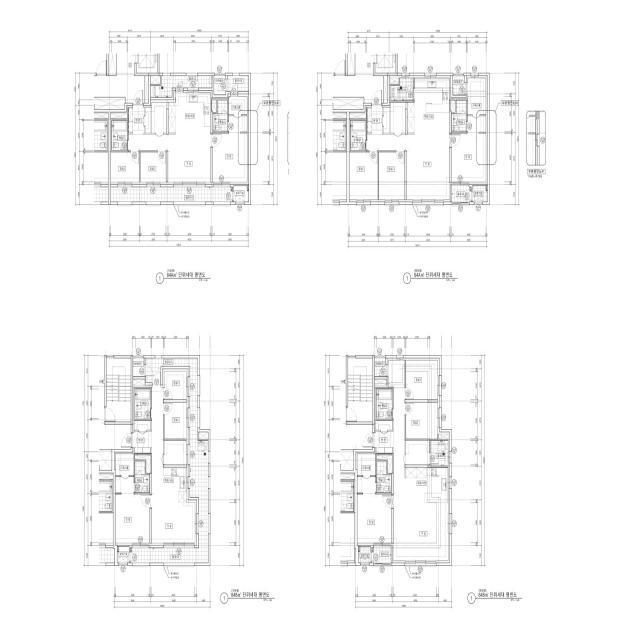space_balconi: (130, 358, 208, 563), (111, 187, 233, 202), (151, 76, 212, 97), (391, 78, 413, 101), (430, 441, 448, 466), (227, 76, 249, 91), (372, 546, 391, 563), (452, 185, 471, 202)
space_bedroom: (357, 494, 391, 543), (116, 494, 150, 543), (213, 133, 247, 182), (452, 133, 486, 182), (349, 152, 378, 200), (406, 360, 438, 400), (379, 152, 405, 200), (406, 403, 438, 439), (111, 152, 139, 182), (164, 403, 186, 439), (140, 152, 166, 182), (164, 371, 186, 400)
space_dressroom: (468, 78, 486, 132), (357, 454, 376, 493), (115, 454, 134, 493), (229, 96, 247, 132)
space_front: (128, 105, 144, 134), (367, 105, 383, 133), (132, 432, 152, 454), (374, 432, 393, 454)
space_kitchen: (407, 78, 450, 133), (168, 93, 211, 133), (405, 468, 448, 503), (163, 468, 186, 503)
space_living_room: (389, 360, 448, 561), (152, 387, 195, 543), (367, 133, 450, 200), (128, 134, 211, 182)
space_other: (406, 441, 429, 465), (164, 440, 186, 465), (152, 102, 166, 133), (391, 102, 405, 133), (135, 455, 151, 473), (377, 455, 392, 473), (453, 76, 466, 95), (214, 76, 226, 95), (375, 358, 387, 376), (133, 358, 144, 376), (134, 420, 151, 430), (376, 420, 392, 430), (145, 108, 151, 133), (384, 108, 390, 133), (145, 76, 149, 103), (349, 114, 366, 119), (384, 76, 387, 103), (111, 114, 127, 119), (375, 379, 387, 385), (133, 379, 145, 385), (151, 76, 160, 84), (199, 432, 208, 439), (212, 100, 217, 112), (390, 78, 399, 84), (451, 100, 455, 112), (439, 434, 448, 439)
space_outdoor_room: (234, 186, 249, 202), (472, 186, 487, 202), (358, 547, 371, 563), (117, 547, 129, 563)
space_staircase: (106, 358, 131, 422), (348, 358, 372, 422)
space_toilet: (350, 120, 366, 151), (135, 389, 151, 419), (376, 389, 392, 419), (135, 461, 150, 493), (213, 100, 228, 132), (112, 120, 127, 151), (377, 461, 391, 493), (452, 100, 466, 132)
